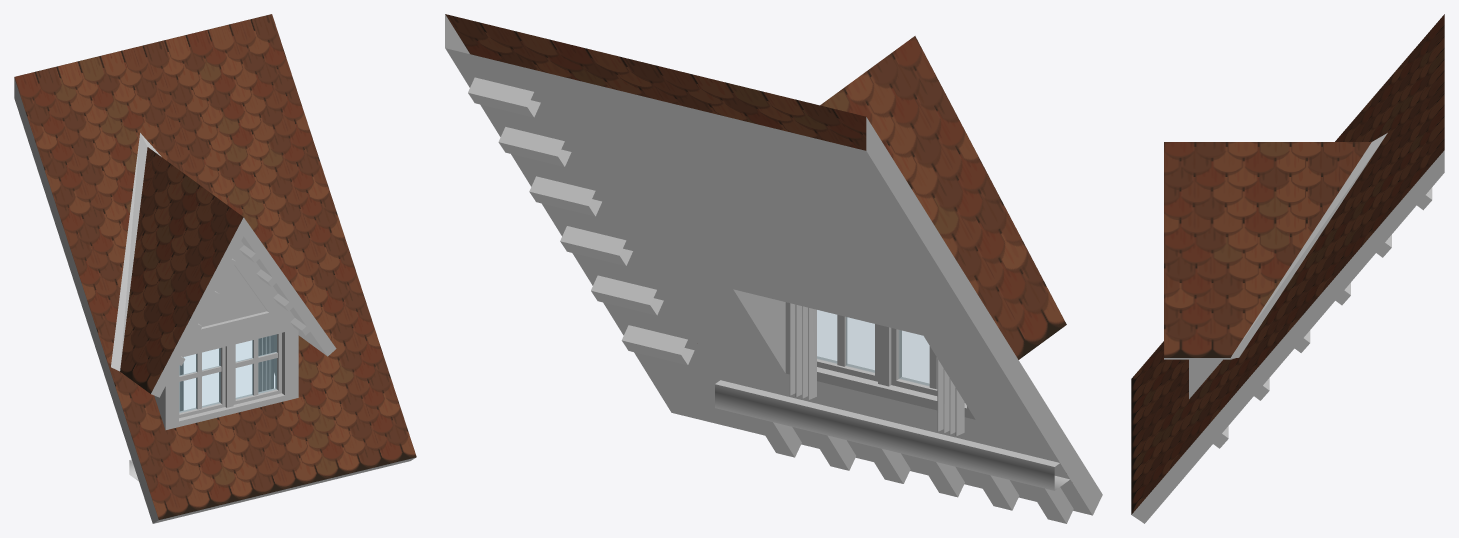
Rendered from Roof_End_Window_01_B.FBX.
The picture shows the model from 3 angles, left to right: view 1: azimuth 30°, elevation 25°; view 2: azimuth 150°, elevation 25°; view 3: azimuth 270°, elevation 25°; orthographic projection. The views are drawn at different scales.
Parts seen in each view (by area): view 1: Roof_End_Window_01_B; view 2: Roof_End_Window_01_B; view 3: Roof_End_Window_01_B.
Part boxes in pixels (<box>): Roof_End_Window_01_B: <box>14,14,416,523</box>; Roof_End_Window_01_B: <box>445,14,1102,523</box>; Roof_End_Window_01_B: <box>1131,14,1444,523</box>.
Size of the model in its own units: 7.75 by 10.04 by 7.53.
